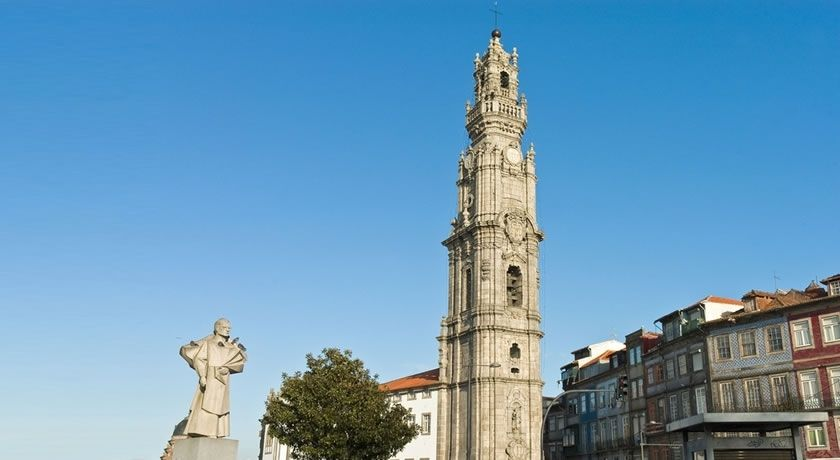clerigos: (435, 0, 546, 459)
